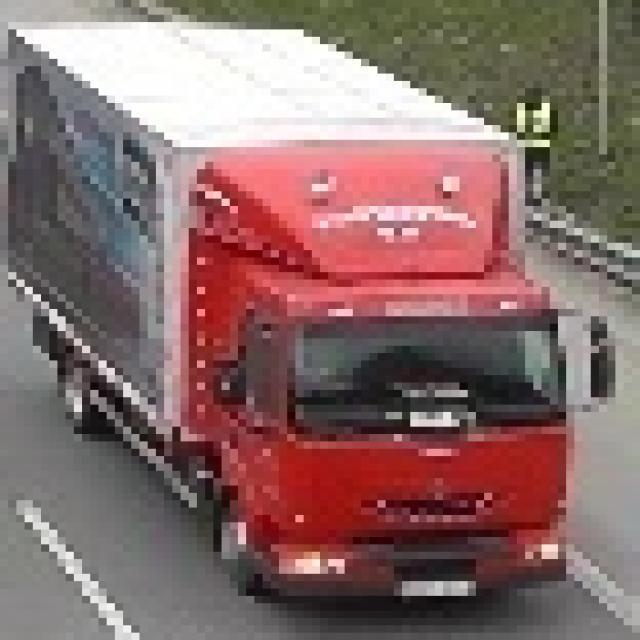truck: (164, 142, 640, 615)
